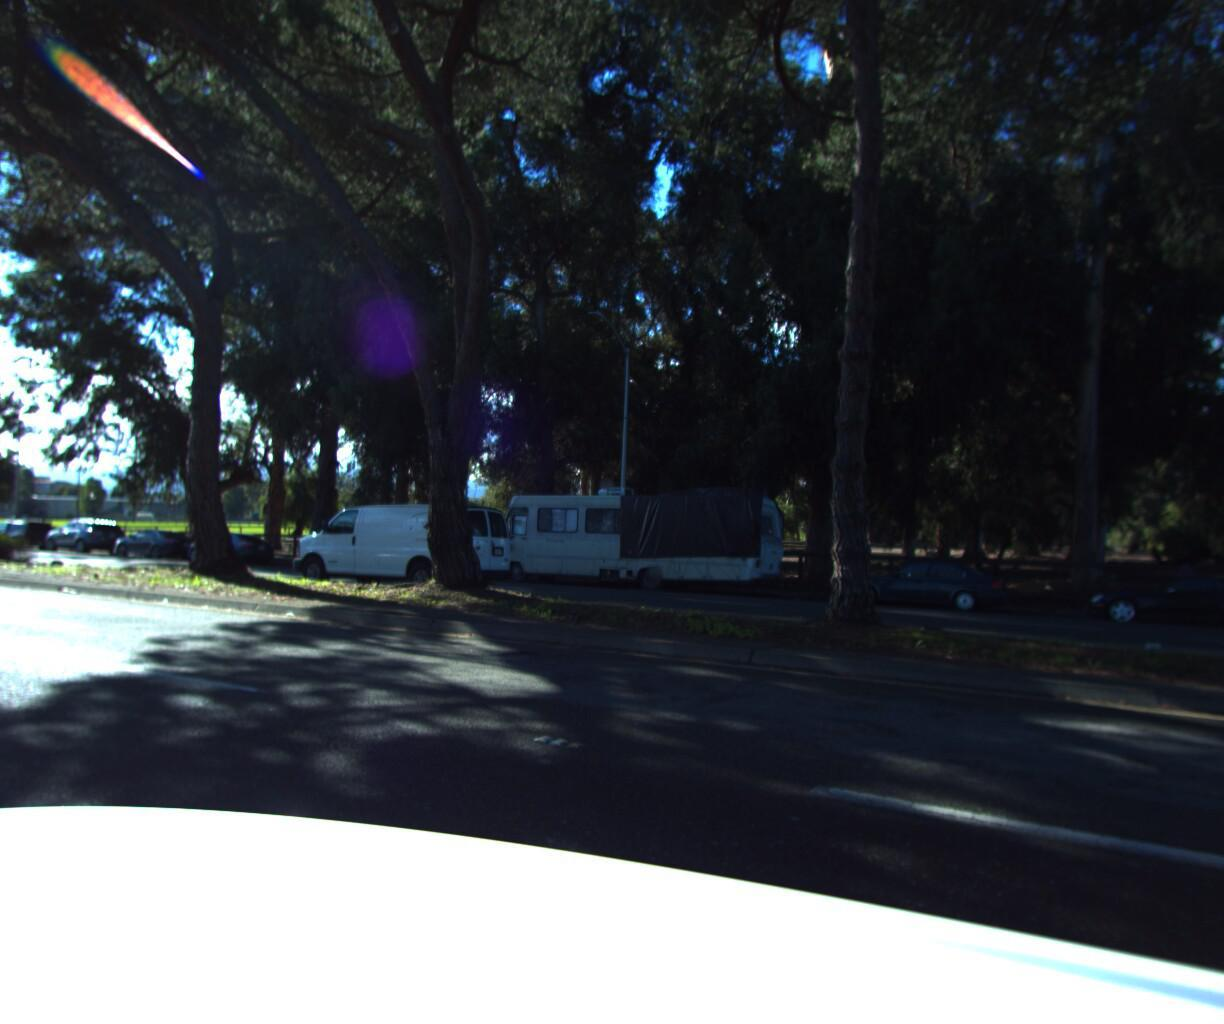car: (282, 495, 529, 590), (827, 549, 1014, 612), (1073, 562, 1224, 634), (177, 525, 280, 562), (37, 513, 130, 550), (106, 522, 203, 557)
other_vehicle: (480, 477, 793, 594)
